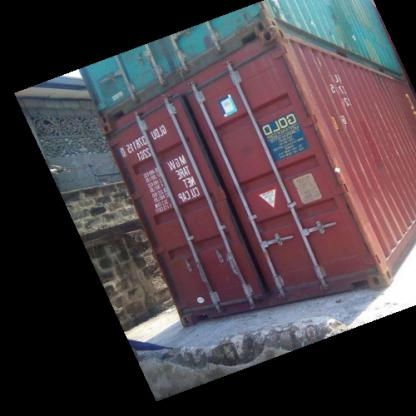Damage: (287, 48, 339, 196), (281, 270, 387, 298)
